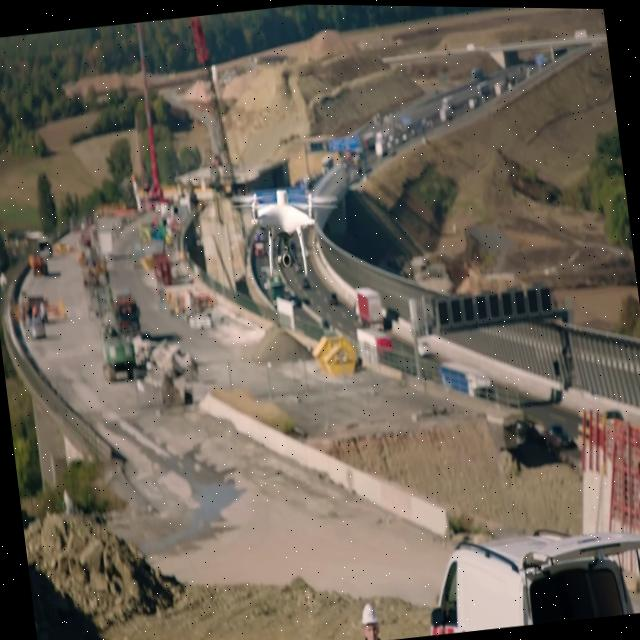drone: (230, 177, 348, 284)
